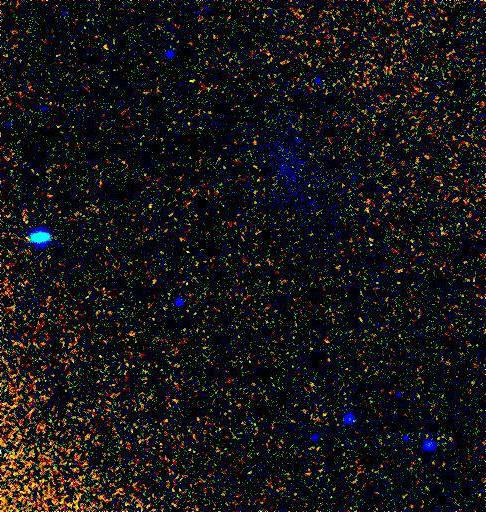star: (13, 223, 43, 253)
